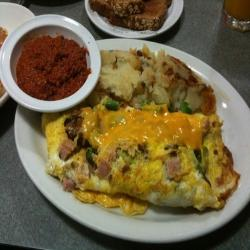omelette: (43, 108, 240, 217)
